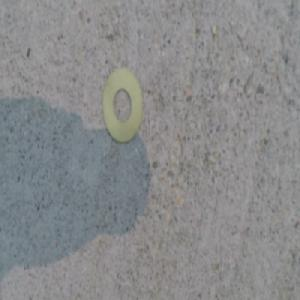Washer: (101, 66, 143, 144)
